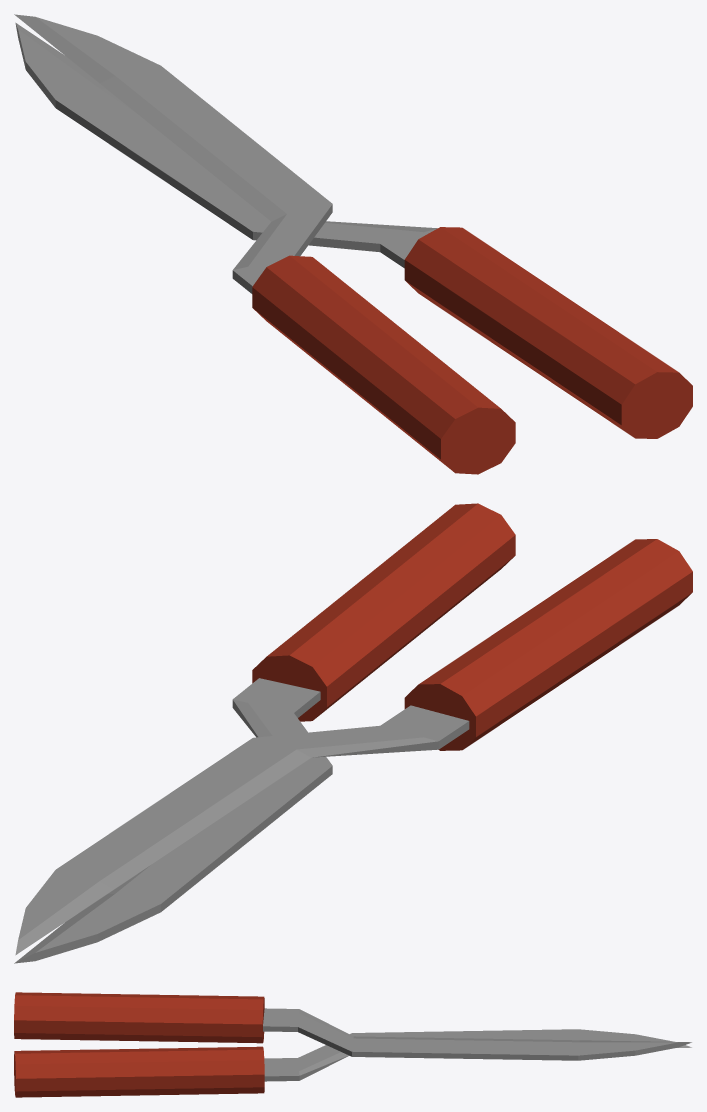
Rendered from Shears.fbx.
3 views of the same model, one above another, from view 1: azimuth 30°, elevation 25°; view 2: azimuth 150°, elevation 25°; view 3: azimuth 270°, elevation 25° (orthographic). The views are drawn at different scales.
Parts seen in each view (by area): view 1: Right, Left; view 2: Right, Left; view 3: Right, Left.
Boxes of the visible parts, bbox=[...] form: Right: bbox=[14, 14, 515, 474]; Left: bbox=[15, 22, 692, 438]; Right: bbox=[15, 539, 692, 955]; Left: bbox=[14, 503, 515, 963]; Right: bbox=[14, 992, 691, 1060]; Left: bbox=[14, 1029, 691, 1097].
Size of the model in its own units: 15.76 by 4.49 by 60.01.
